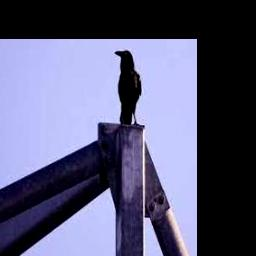Crow: (113, 50, 141, 125)
